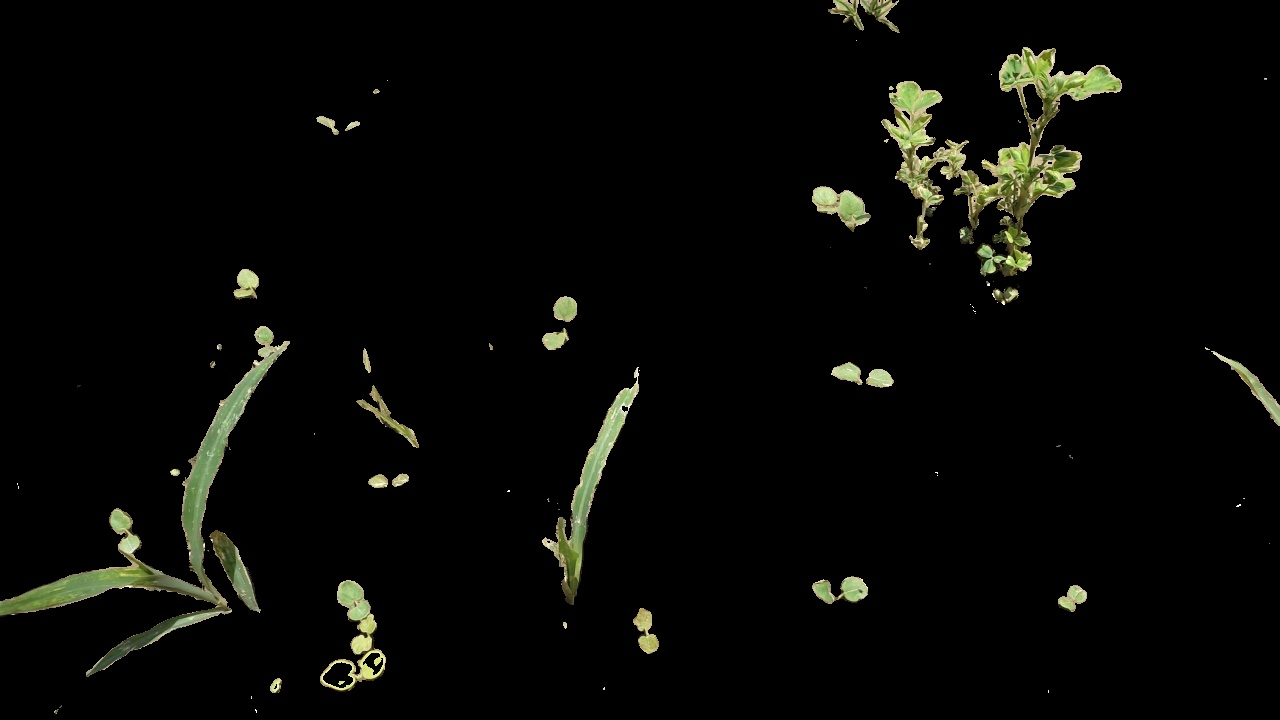crop: (156, 343, 288, 624), (531, 384, 629, 609)
weed: (883, 41, 1133, 286), (319, 565, 408, 692), (805, 560, 883, 611), (810, 182, 874, 231), (211, 263, 280, 307), (302, 101, 368, 140), (101, 503, 150, 555), (832, 361, 900, 396), (541, 289, 577, 351), (630, 601, 666, 658), (1055, 574, 1087, 617), (364, 471, 415, 497)
